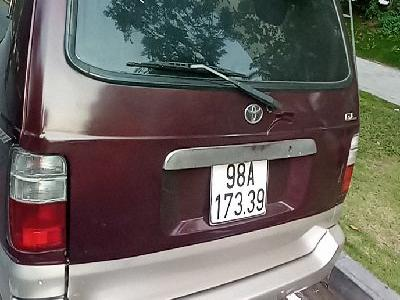car: (209, 159, 269, 226)
